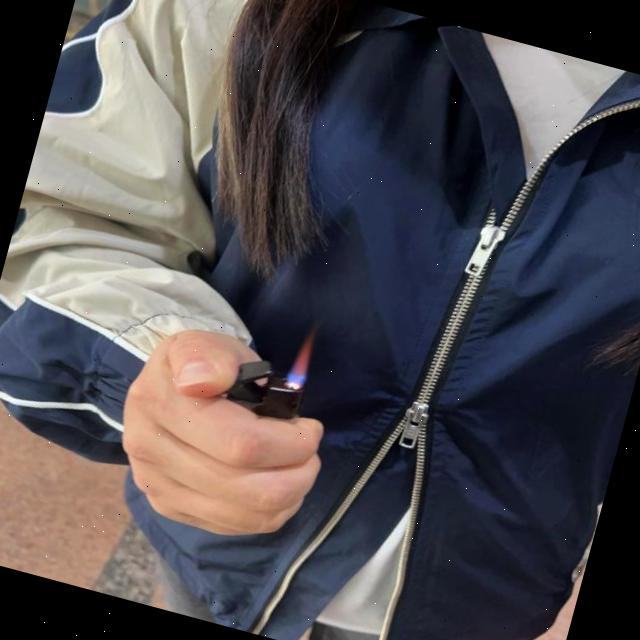fire: (286, 331, 318, 385)
